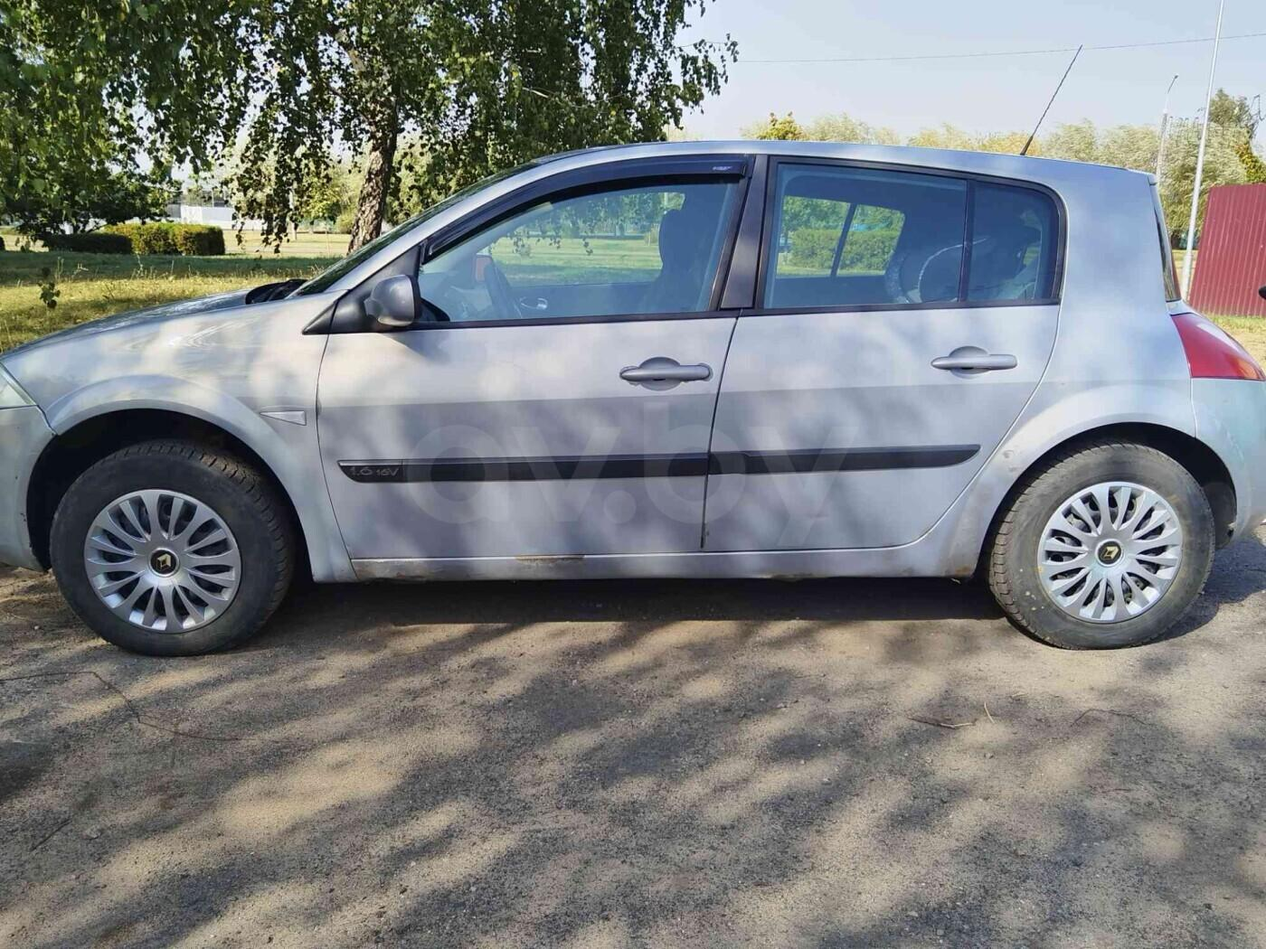Megane_2002-2006: (0, 141, 1266, 664)
